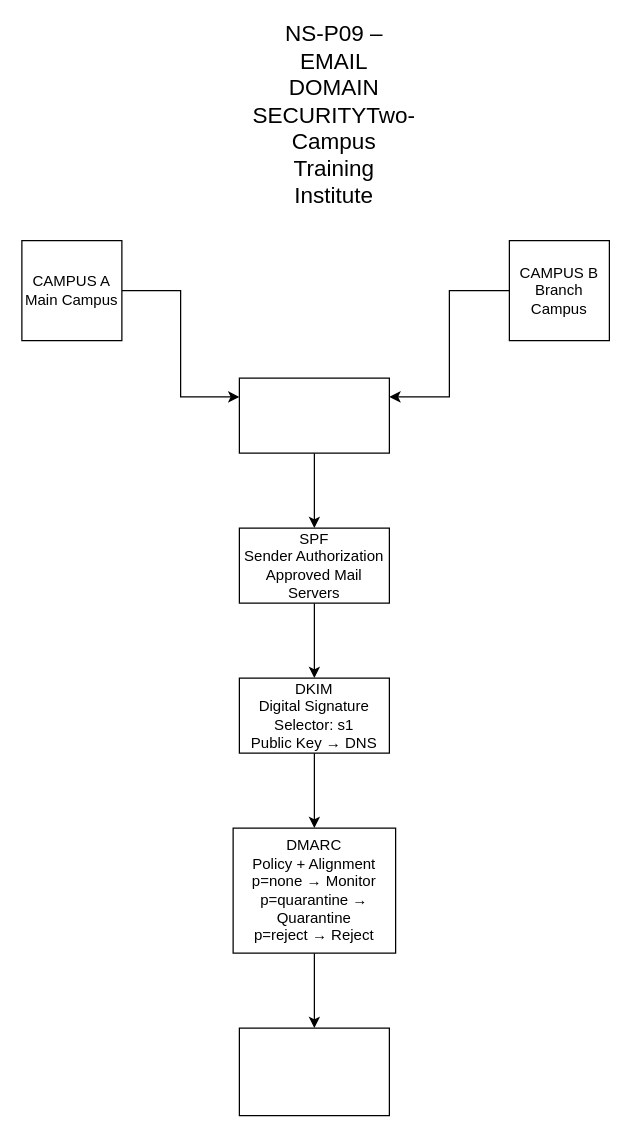
This 631x1138 diagram has some shape labels left out. Each missing label, with the centre of its shape:
INSTITUTE EMAIL DOMAIN training-institute.local: the point at 313,415
RECIPIENT EMAIL Authentication Result: the point at 313,1071
